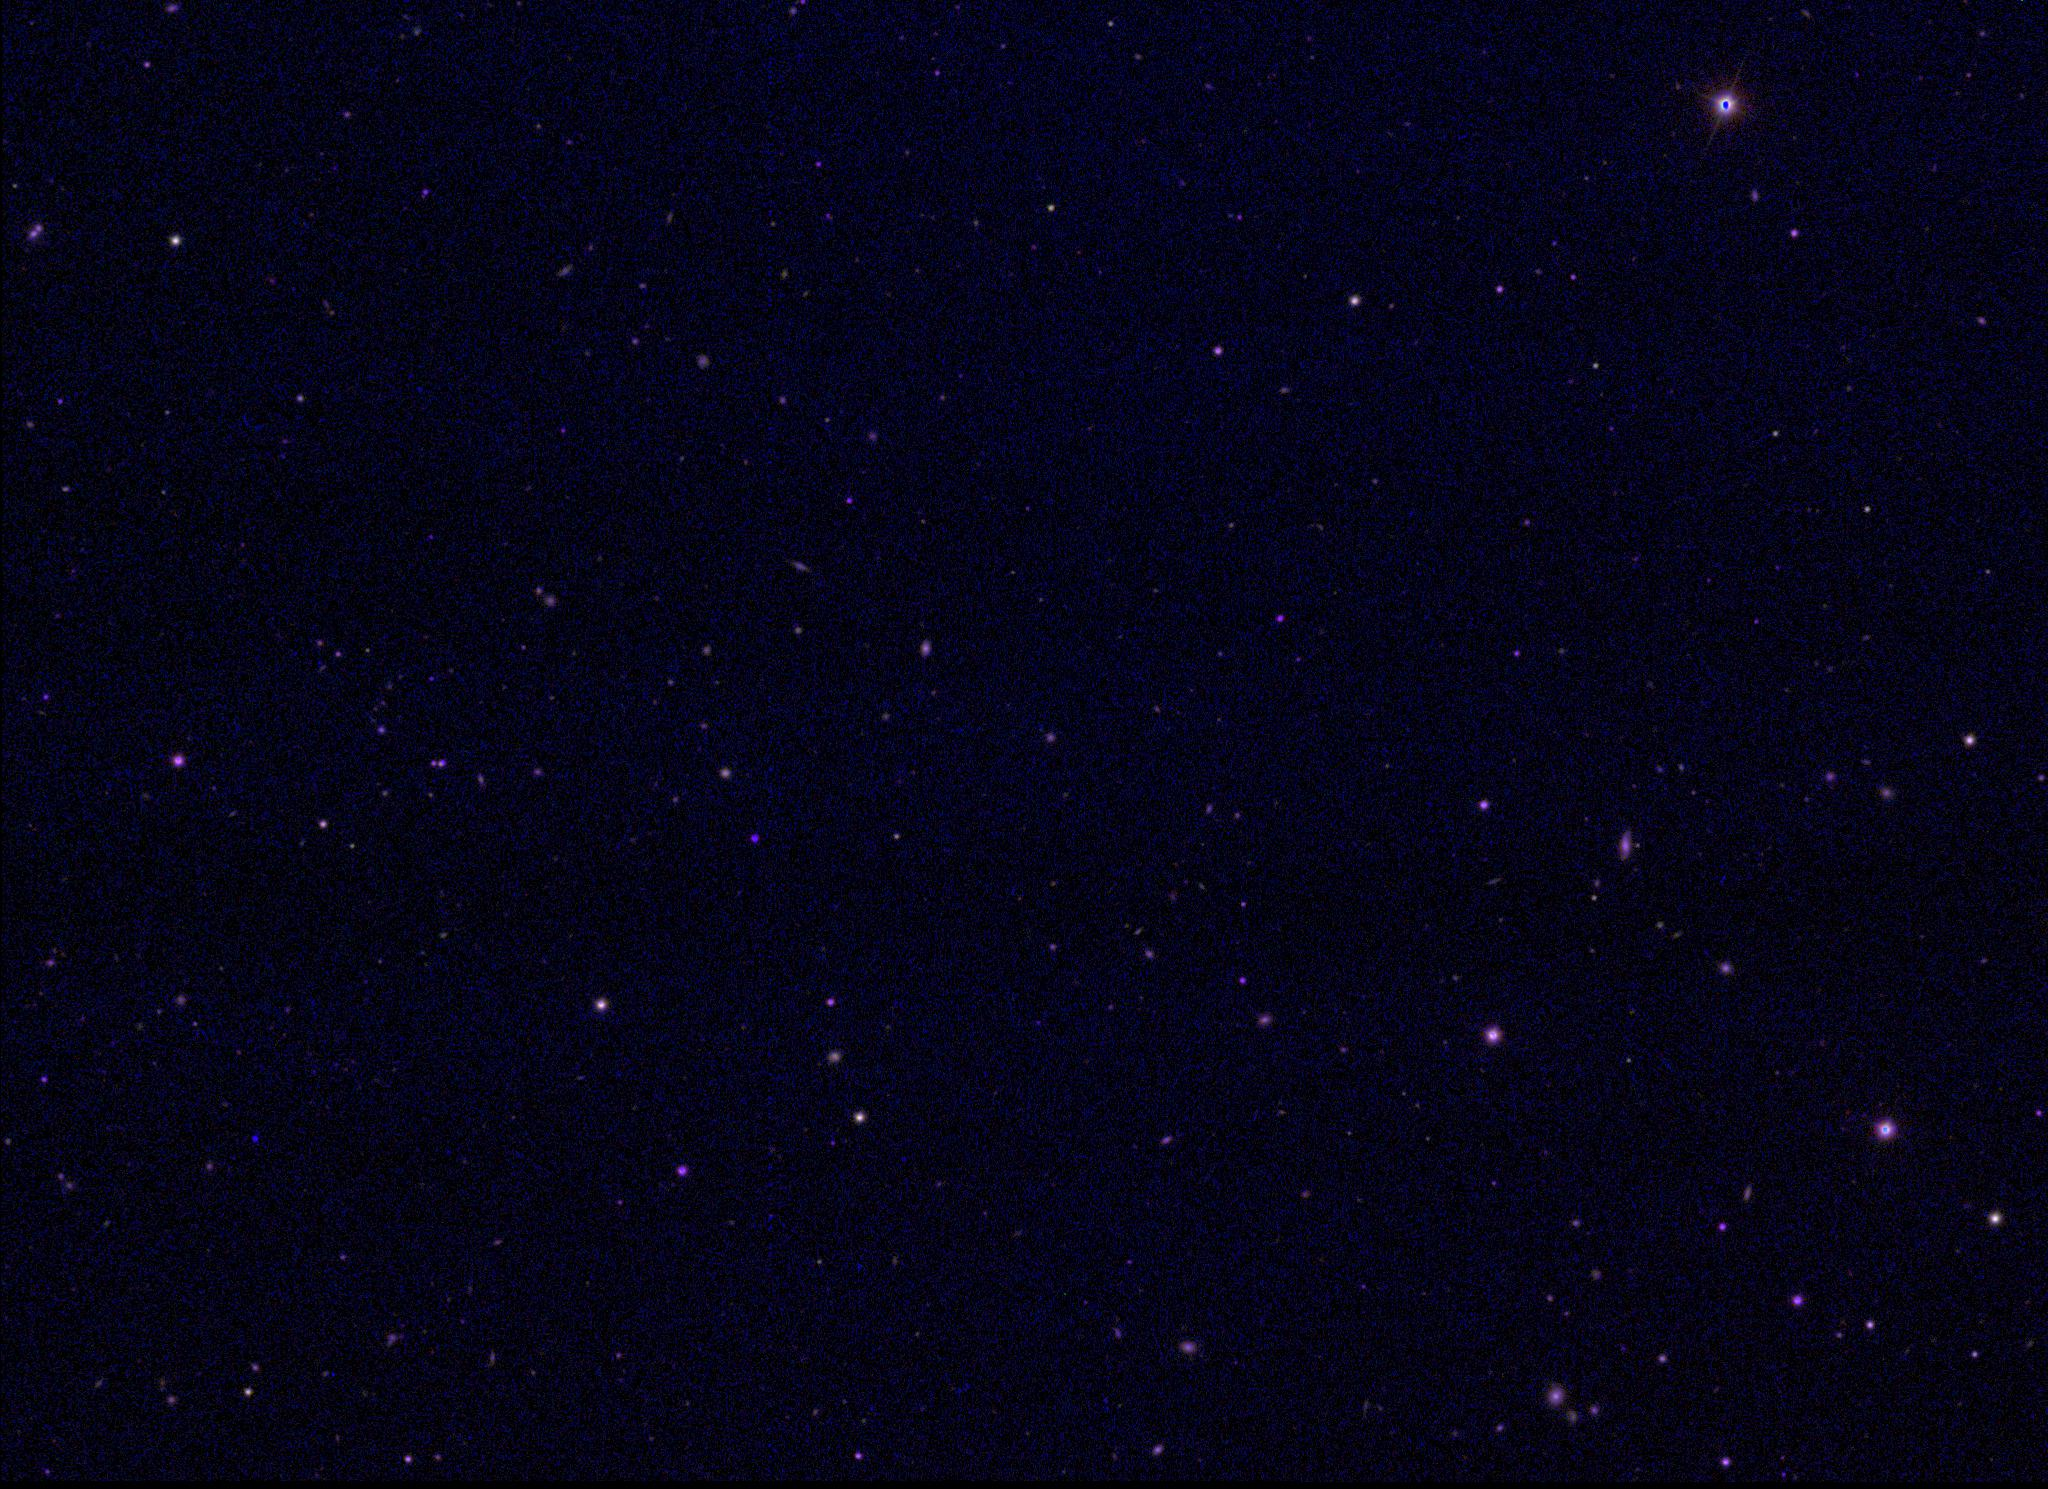L: (248, 1133, 262, 1145)
